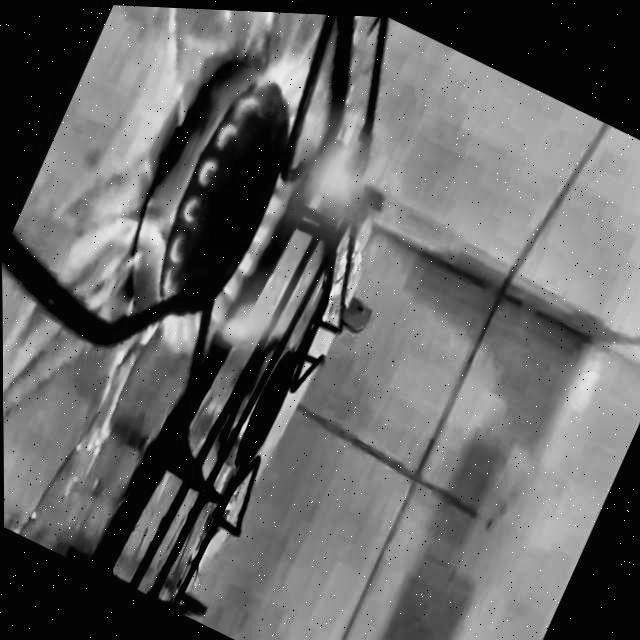Fire: (121, 15, 473, 436)
